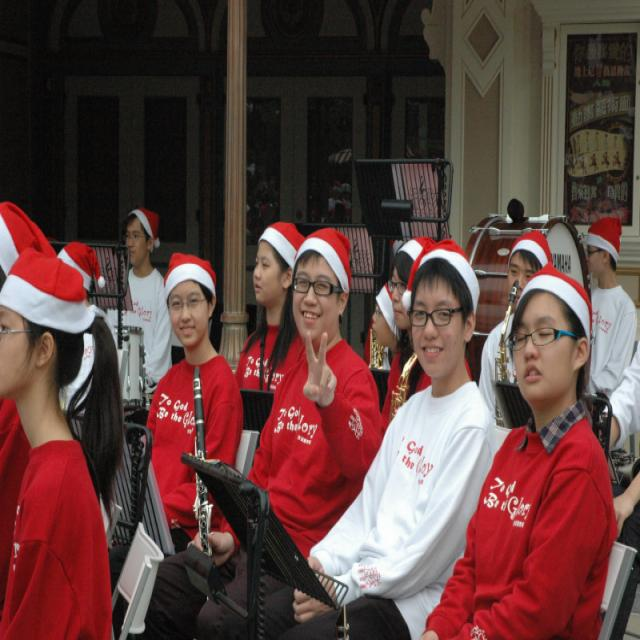clarinet: (191, 365, 214, 568)
saxophone: (495, 276, 524, 428), (390, 347, 424, 424)
